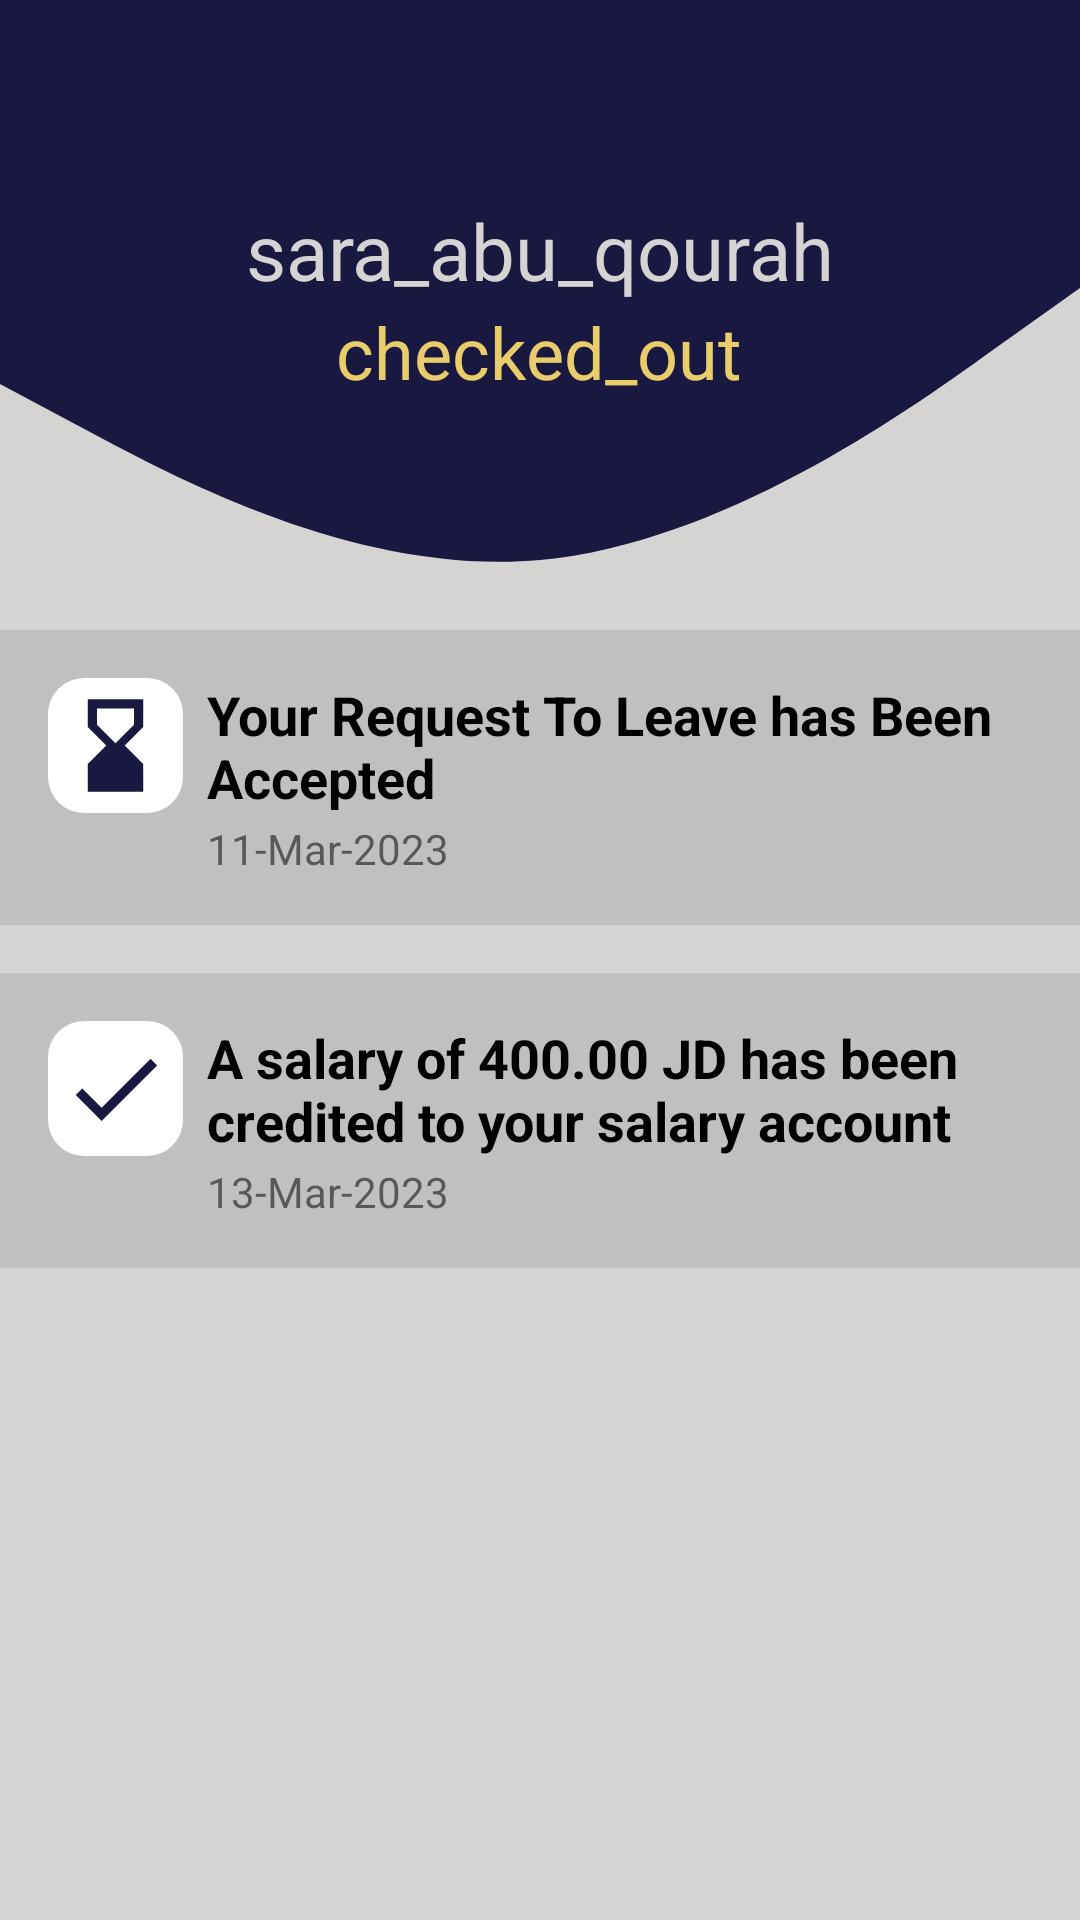

Locate icon controls on the screen. Image size 1080px x 1920px, boxes as (x1, y1, x2, y2).
check: (48, 1021, 183, 1156)
hourglass bottom: (48, 678, 183, 813)
